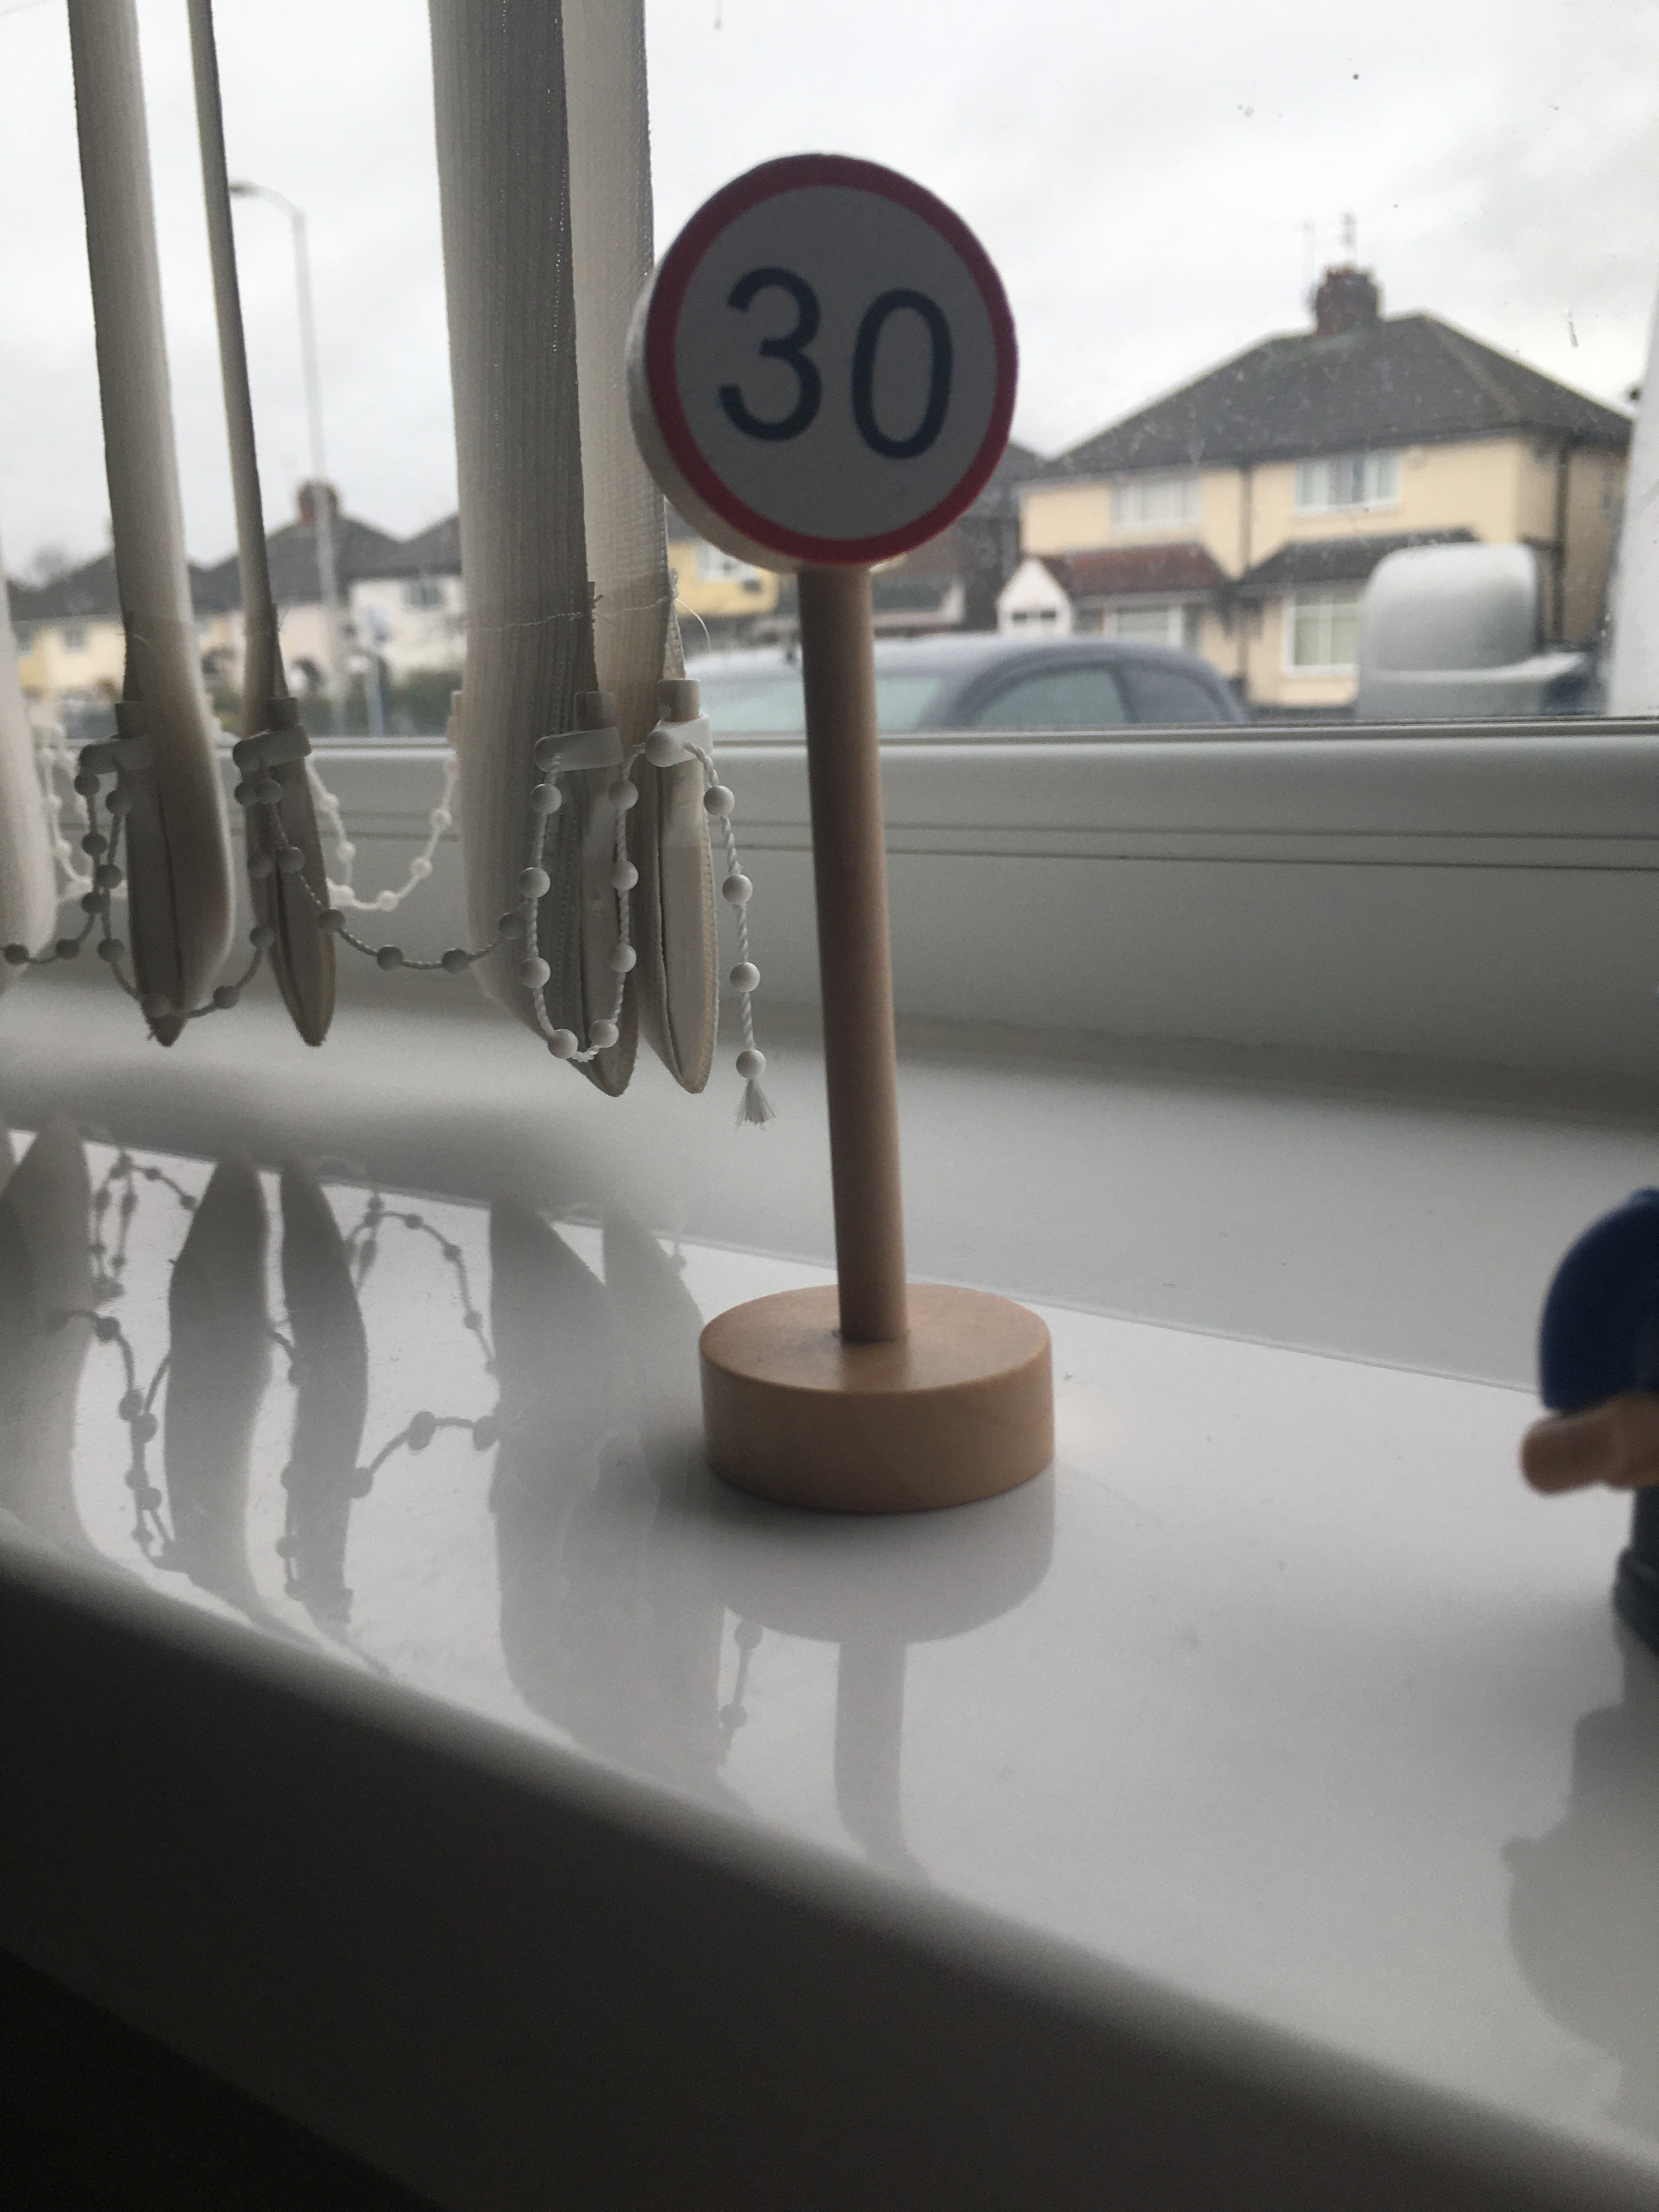Traffic_Sign_30: (640, 153, 1019, 554)
